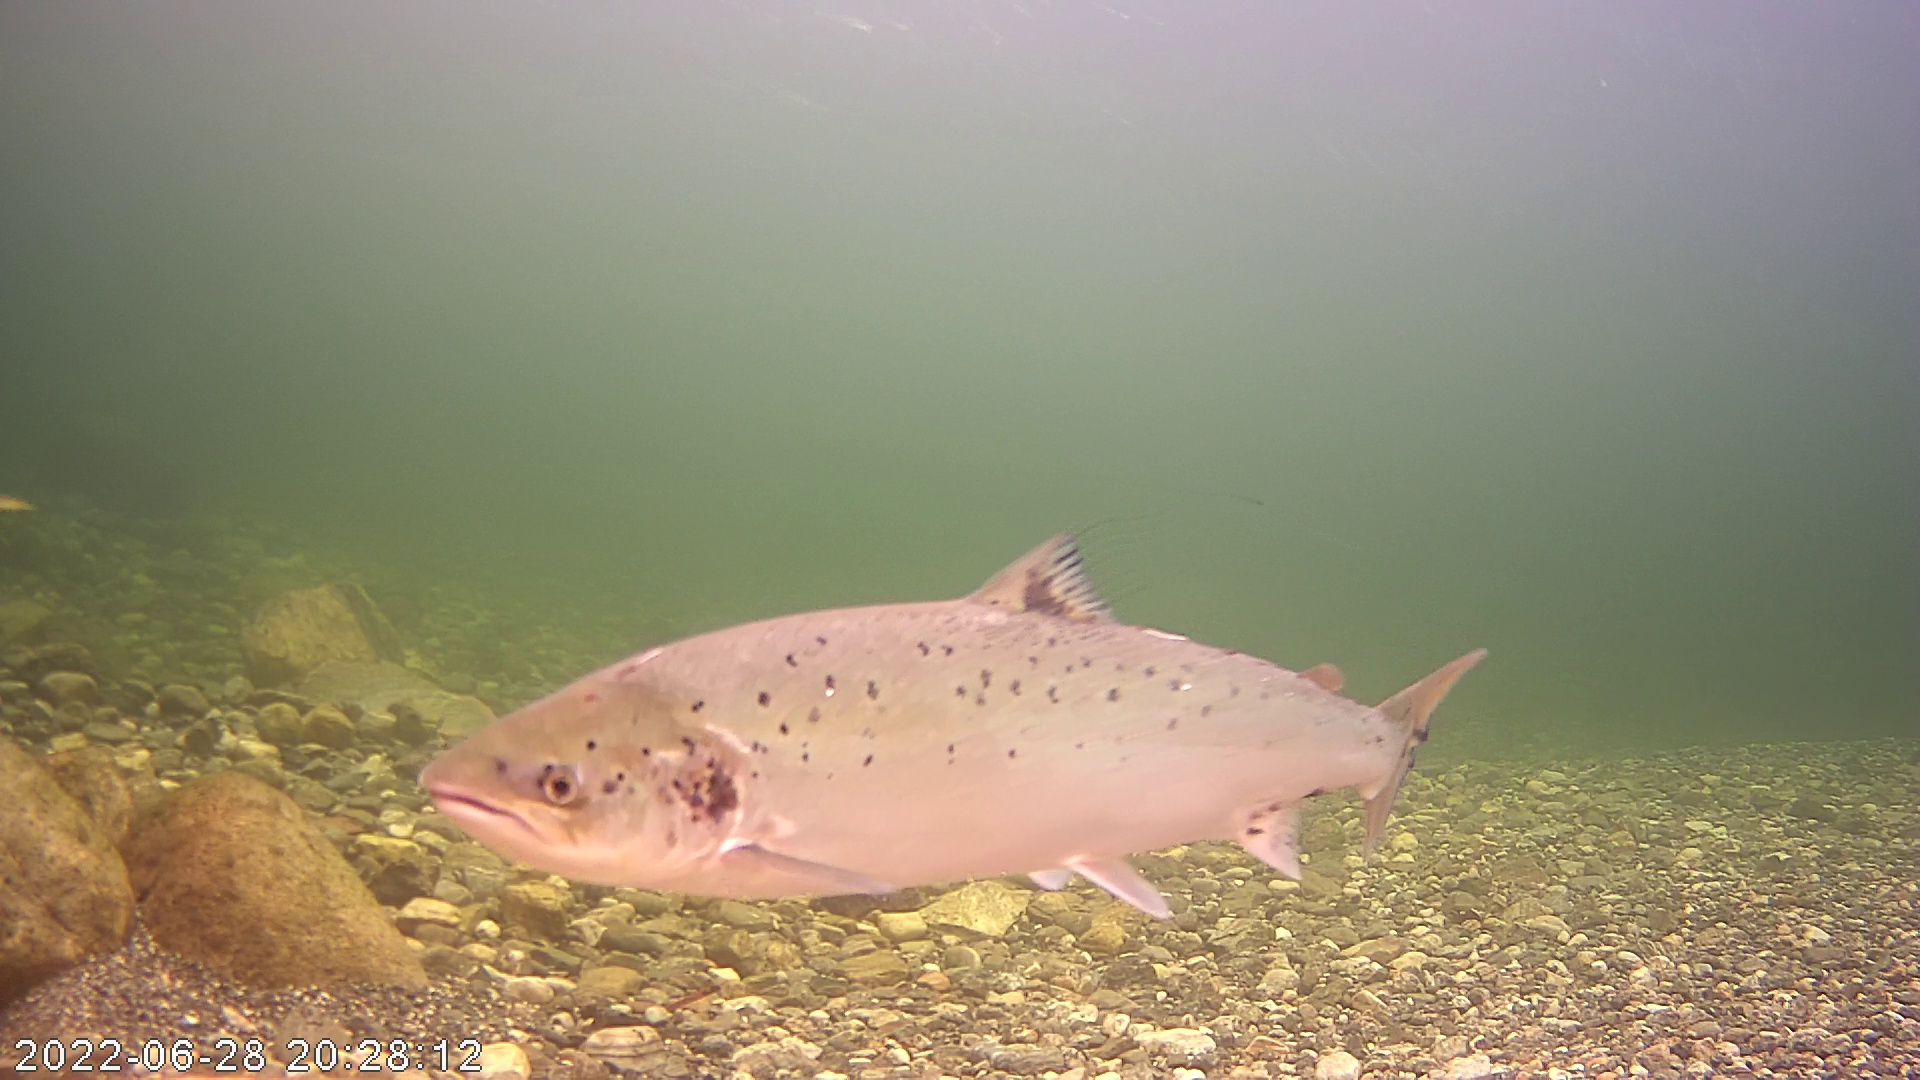salmon: (394, 504, 1465, 913)
